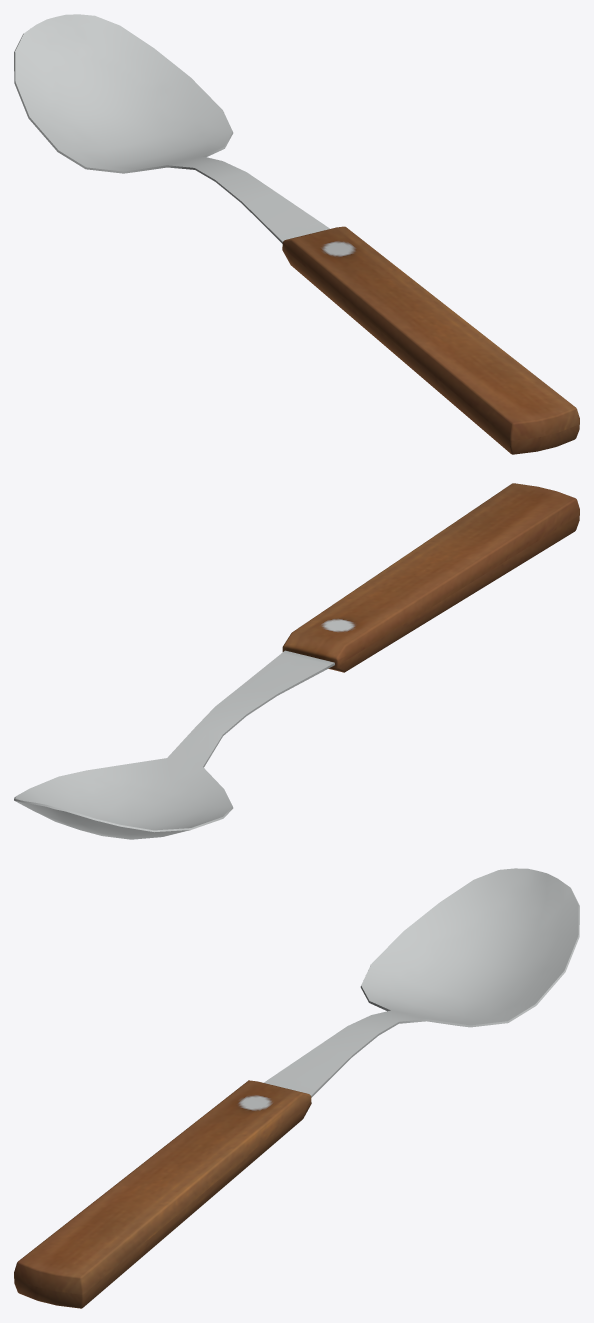
Rendered from GardenTableWear01_20.FBX.
The picture shows the model from 3 angles, top to bottom: view 1: azimuth 30°, elevation 25°; view 2: azimuth 150°, elevation 25°; view 3: azimuth 330°, elevation 25°; orthographic projection.
Parts seen in each view (by area): view 1: GardenTableWear01_20; view 2: GardenTableWear01_20; view 3: GardenTableWear01_20.
Part boxes in pixels (<box>): GardenTableWear01_20: <box>14,14,579,454</box>; GardenTableWear01_20: <box>14,483,579,839</box>; GardenTableWear01_20: <box>14,868,579,1308</box>.
Size of what is drawn, in the model's own units: 0.0564 by 0.024 by 0.2909.
